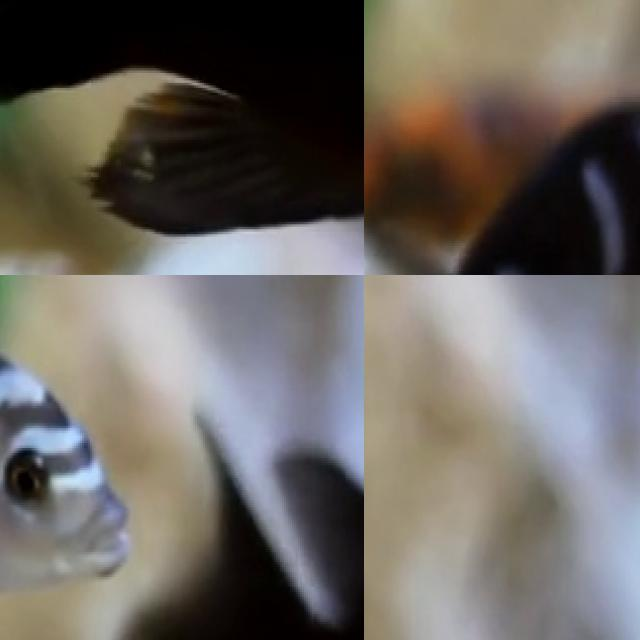fish: (0, 0, 364, 275), (0, 275, 129, 606)
